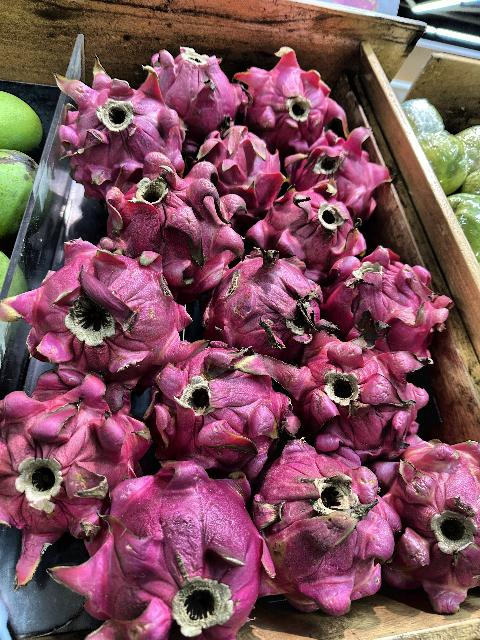buah-naga-matang: (77, 454, 274, 640), (0, 354, 144, 534), (250, 452, 399, 610), (29, 231, 180, 379), (148, 338, 290, 464), (290, 318, 424, 446), (48, 47, 186, 171), (384, 423, 480, 597), (110, 152, 240, 280), (324, 243, 450, 359), (213, 247, 325, 361), (188, 118, 296, 214), (272, 125, 398, 205), (252, 177, 362, 265), (244, 48, 348, 138), (146, 38, 244, 132)
